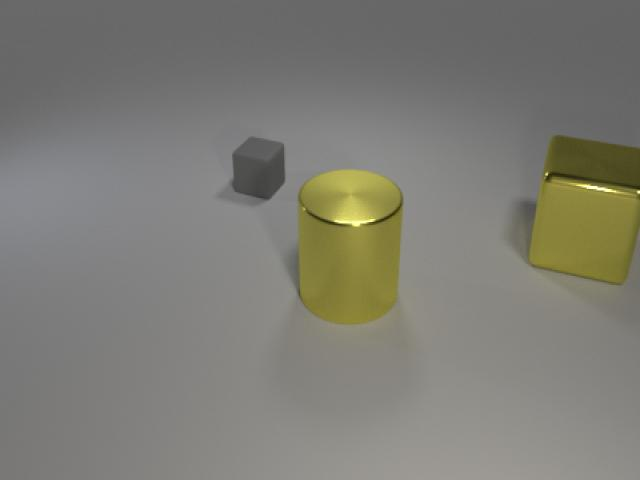cylinder: (292, 160, 408, 330)
